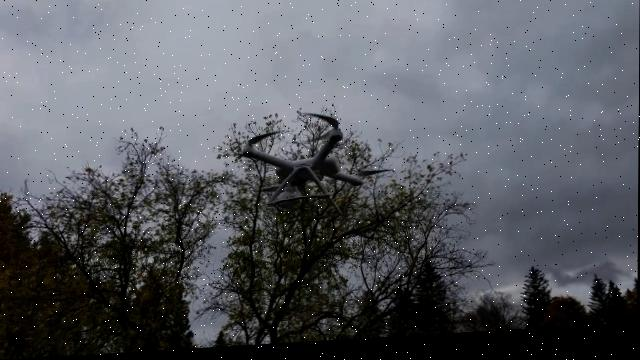drone: (194, 102, 418, 237)
